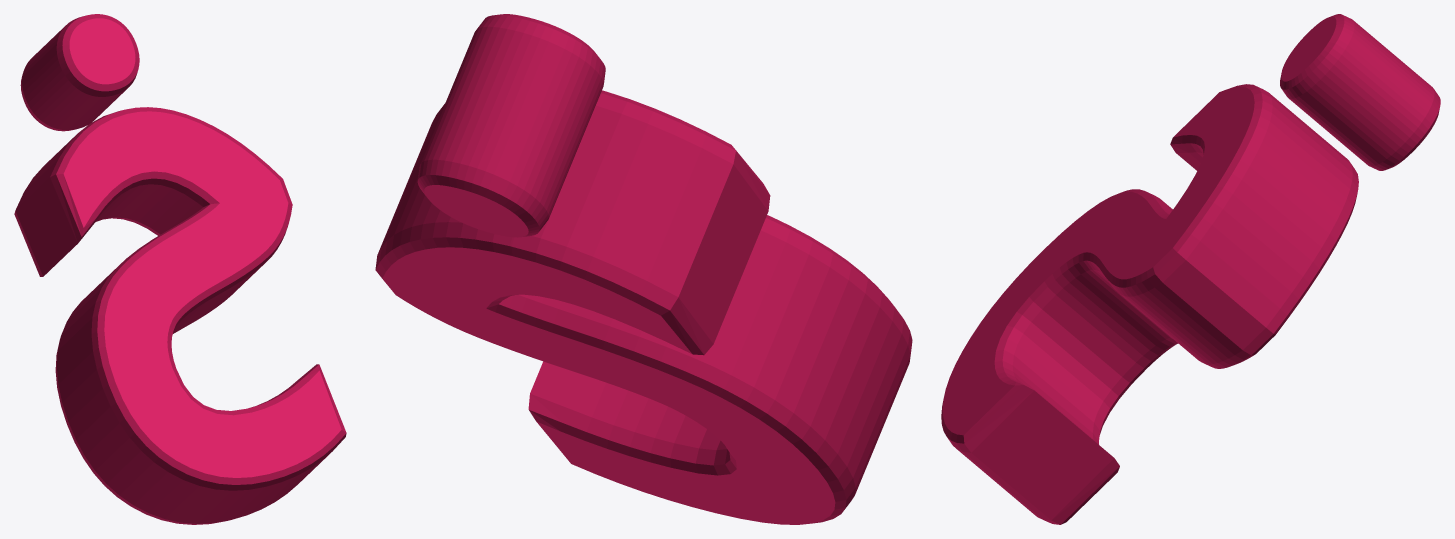
The picture shows the model from 3 angles, left to right: view 1: azimuth 30°, elevation 25°; view 2: azimuth 150°, elevation 25°; view 3: azimuth 270°, elevation 25°; orthographic projection. The views are drawn at different scales.
Visible parts, largest first — view 1: letter; view 2: letter; view 3: letter.
Part boxes in pixels (left/top/right/bottom): letter: left=14, top=14, right=346, bottom=524; letter: left=375, top=14, right=912, bottom=524; letter: left=941, top=14, right=1440, bottom=524.
Size of the model in its own units: 0.8 by 1.34 by 1.28.
